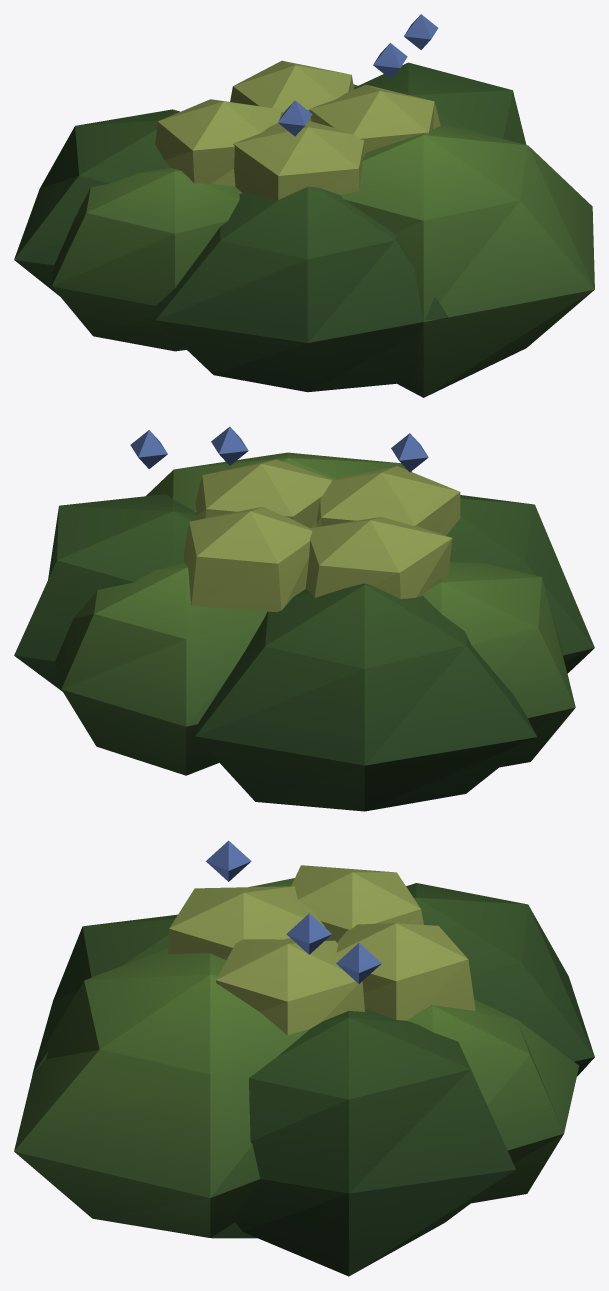
File: fern_bush.glb
The picture shows the model from 3 angles, top to bottom: view 1: azimuth 30°, elevation 25°; view 2: azimuth 150°, elevation 25°; view 3: azimuth 270°, elevation 25°; orthographic projection. The views are drawn at different scales.
Parts seen in each view (by area): view 1: fern_bush; view 2: fern_bush; view 3: fern_bush.
Boxes of the visible parts, left/top/right/bottom form: fern_bush: left=14, top=14, right=594, bottom=397; fern_bush: left=14, top=426, right=594, bottom=811; fern_bush: left=14, top=840, right=594, bottom=1276.
Bounding box in the file's own units: 1.41 × 0.7798 × 1.26.
